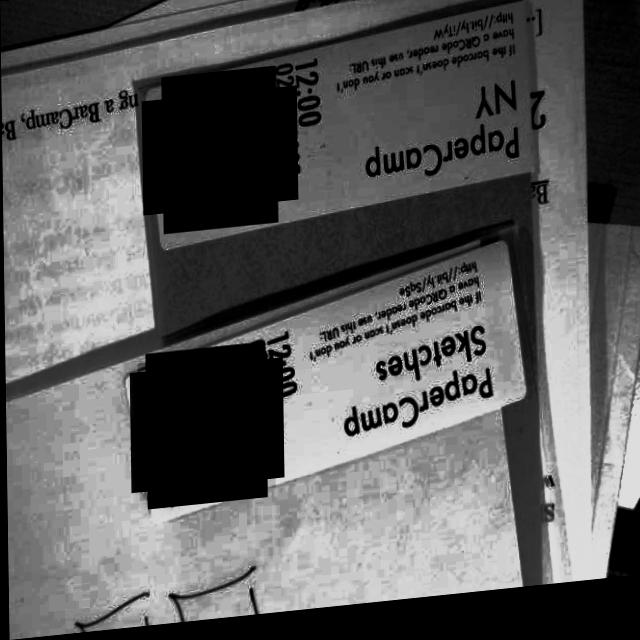qr_code: (136, 354, 274, 503), (150, 81, 288, 227)
